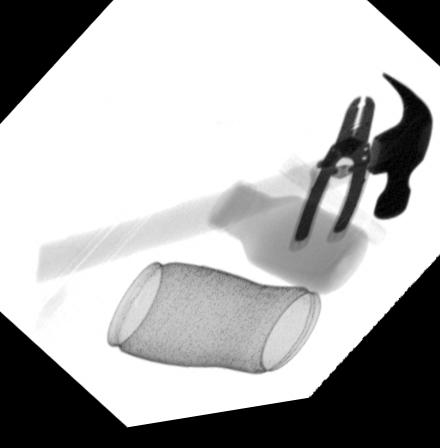Hammer: (36, 84, 432, 285)
Pliers: (287, 106, 377, 260)
